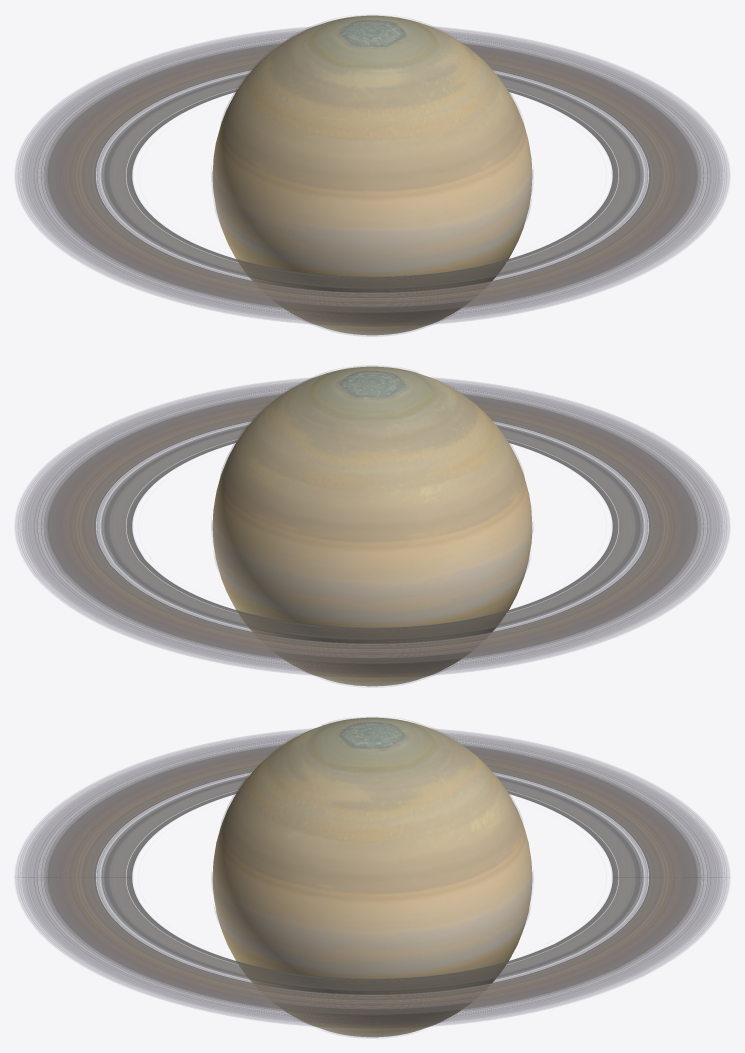
The model's file is saturnus.glb.
The picture shows the model from 3 angles, top to bottom: view 1: azimuth 30°, elevation 25°; view 2: azimuth 150°, elevation 25°; view 3: azimuth 270°, elevation 25°; orthographic projection.
Parts seen in each view (by area): view 1: ring_0, core, cloud_0; view 2: ring_0, core, cloud_0; view 3: ring_0, core, cloud_0.
Part boxes in pixels (x1=…): ring_0: x1=15, y1=27, x2=729, y2=325; core: x1=212, y1=15, x2=532, y2=335; cloud_0: x1=211, y1=15, x2=533, y2=336; ring_0: x1=15, y1=378, x2=729, y2=676; core: x1=212, y1=366, x2=532, y2=686; cloud_0: x1=211, y1=365, x2=533, y2=687; ring_0: x1=15, y1=729, x2=729, y2=1027; core: x1=212, y1=717, x2=532, y2=1037; cloud_0: x1=211, y1=717, x2=533, y2=1038.
Size of the model in its own units: 4.48 by 2.02 by 4.48.
Materials: 3 (3 with a texture image).
